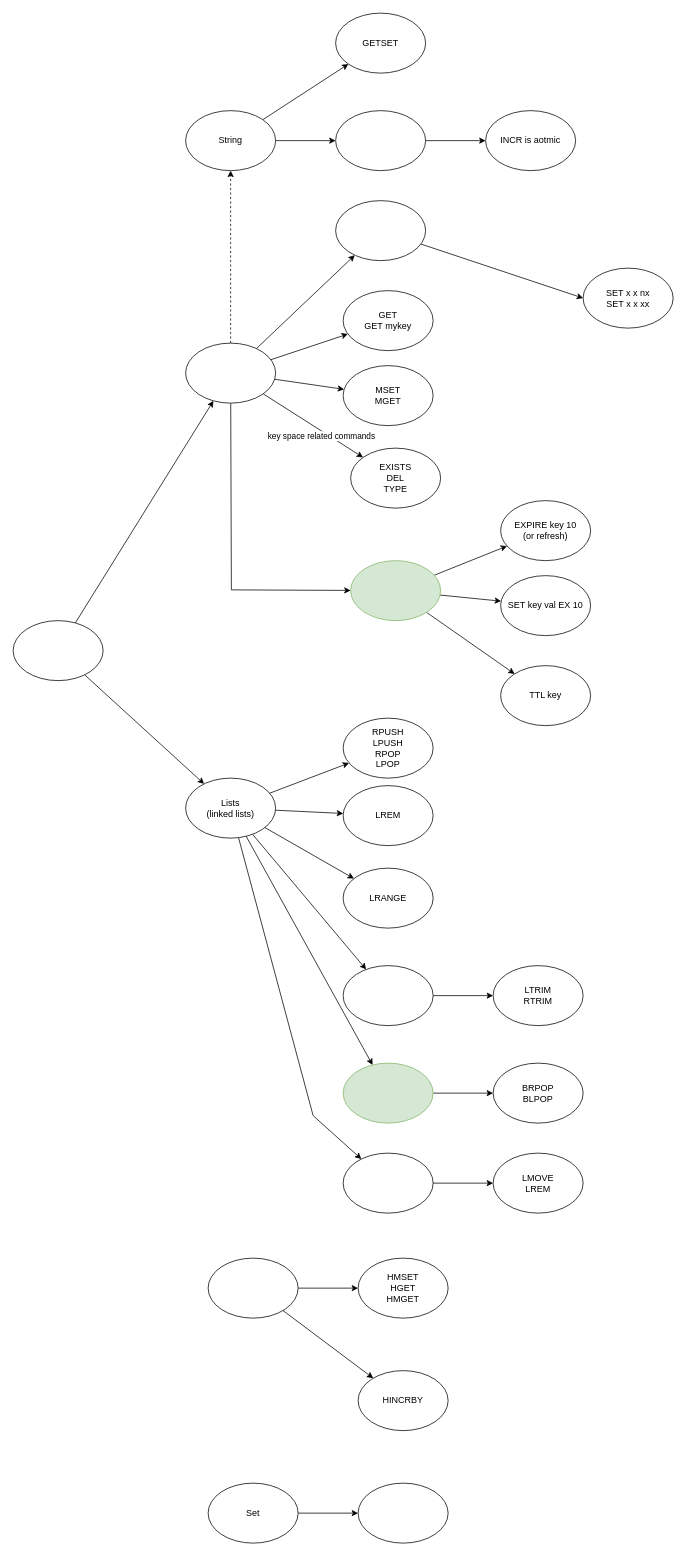
The diagram is 686 pixels wide and 1556 high, and some of its shapes have lost their labels. Here are the shapes that lost their labels. From the top down, the centre of each, then its label:
point (380, 140): SET x 10 INCR x INCRBY x 5
point (380, 230): SET SET mykey someval
point (230, 372): Key binary safe
point (395, 590): Expiration
point (57, 650): Data Types
point (387, 995): Capped lists
point (387, 1092): Blocking Ops
point (387, 1182): Safe queues Rotating queues
point (252, 1287): Hash No limits on #fields
point (402, 1512): SADD
